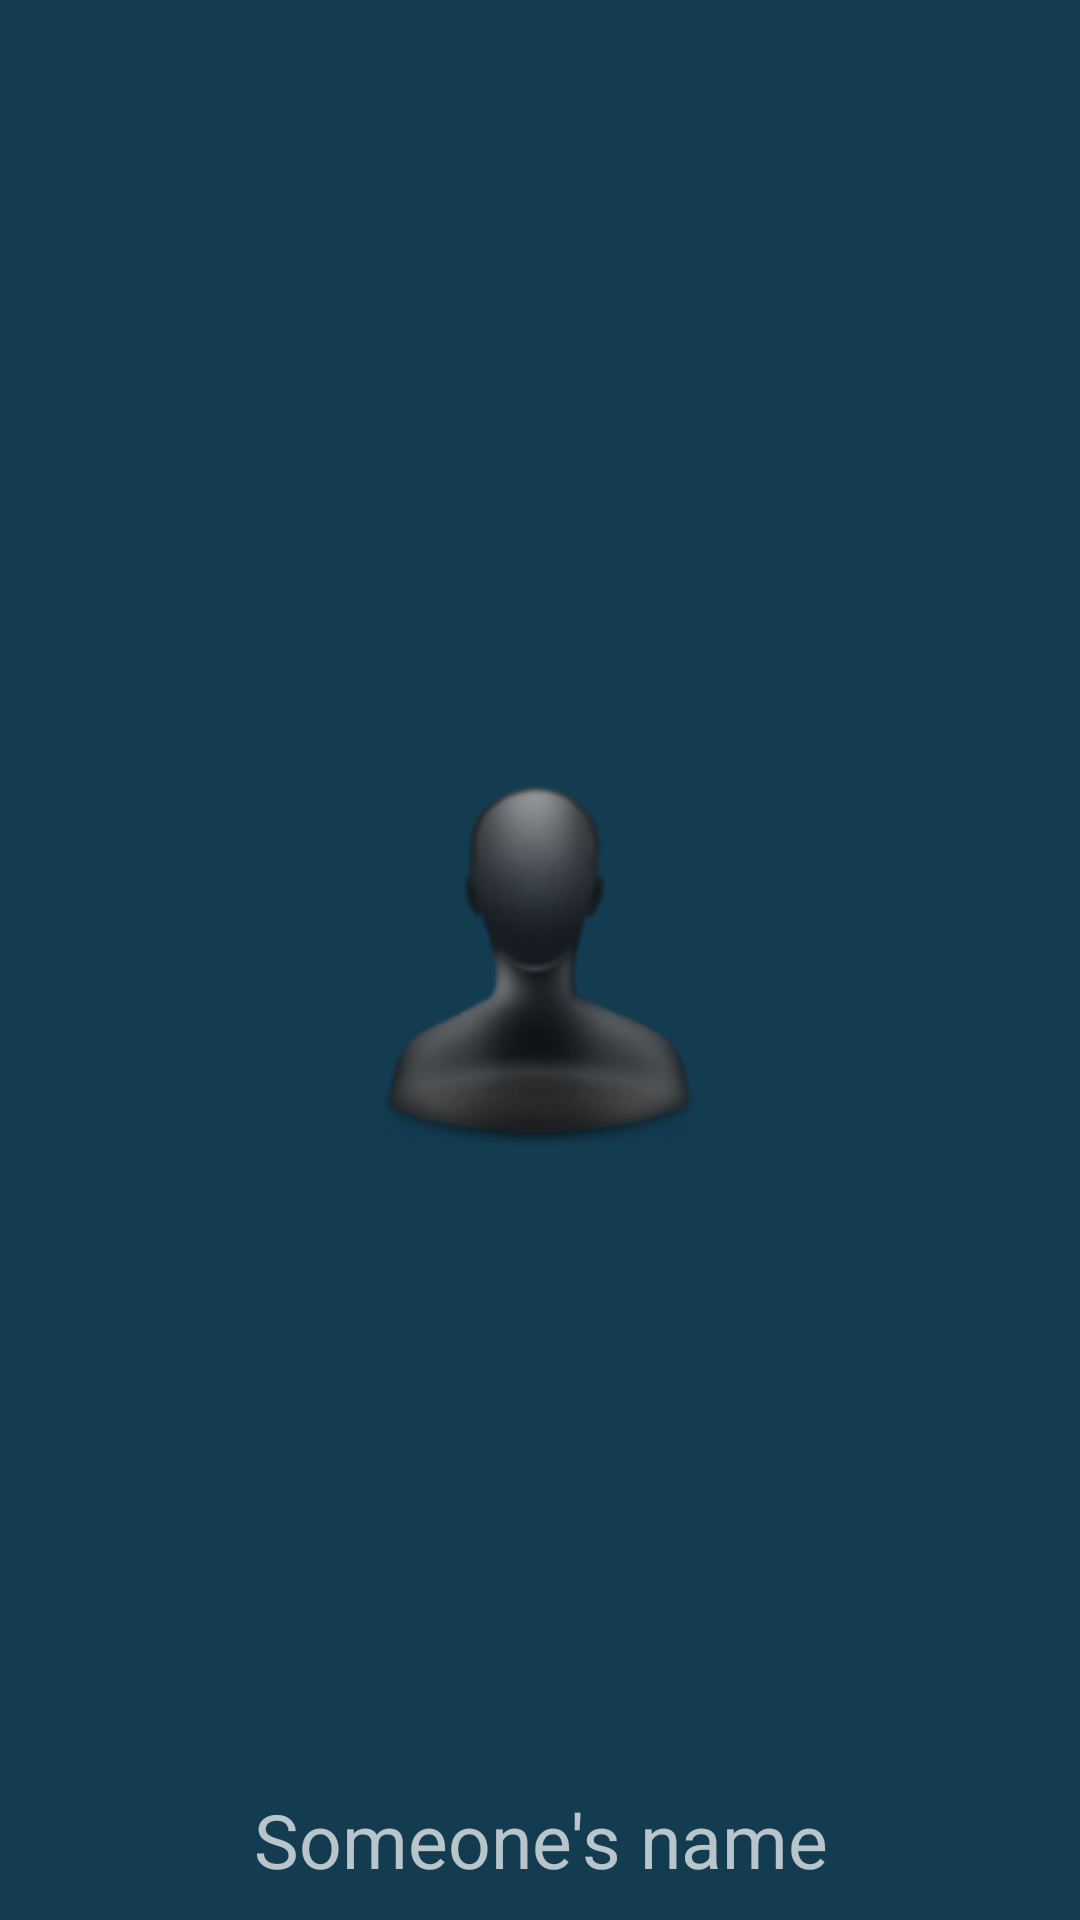

Point at icon controls on the screen. Image size 1080×1920, points as [x,y].
user: [538,962]
